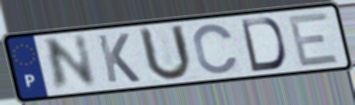C: (191, 22, 241, 76)
D: (239, 16, 288, 73)
E: (285, 10, 341, 69)
K: (94, 32, 143, 85)
N: (42, 32, 100, 95)
U: (136, 23, 195, 84)
